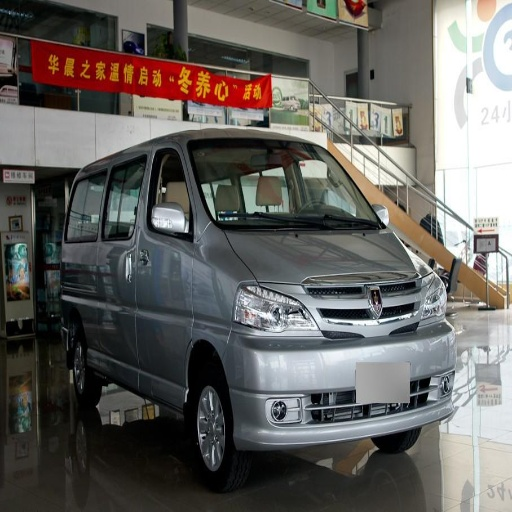front_bumper: (221, 279, 455, 446)
front_left_light: (420, 273, 448, 322)
front_right_door: (131, 145, 194, 379)
front_right_light: (235, 278, 315, 335)
hood: (229, 228, 428, 309)
